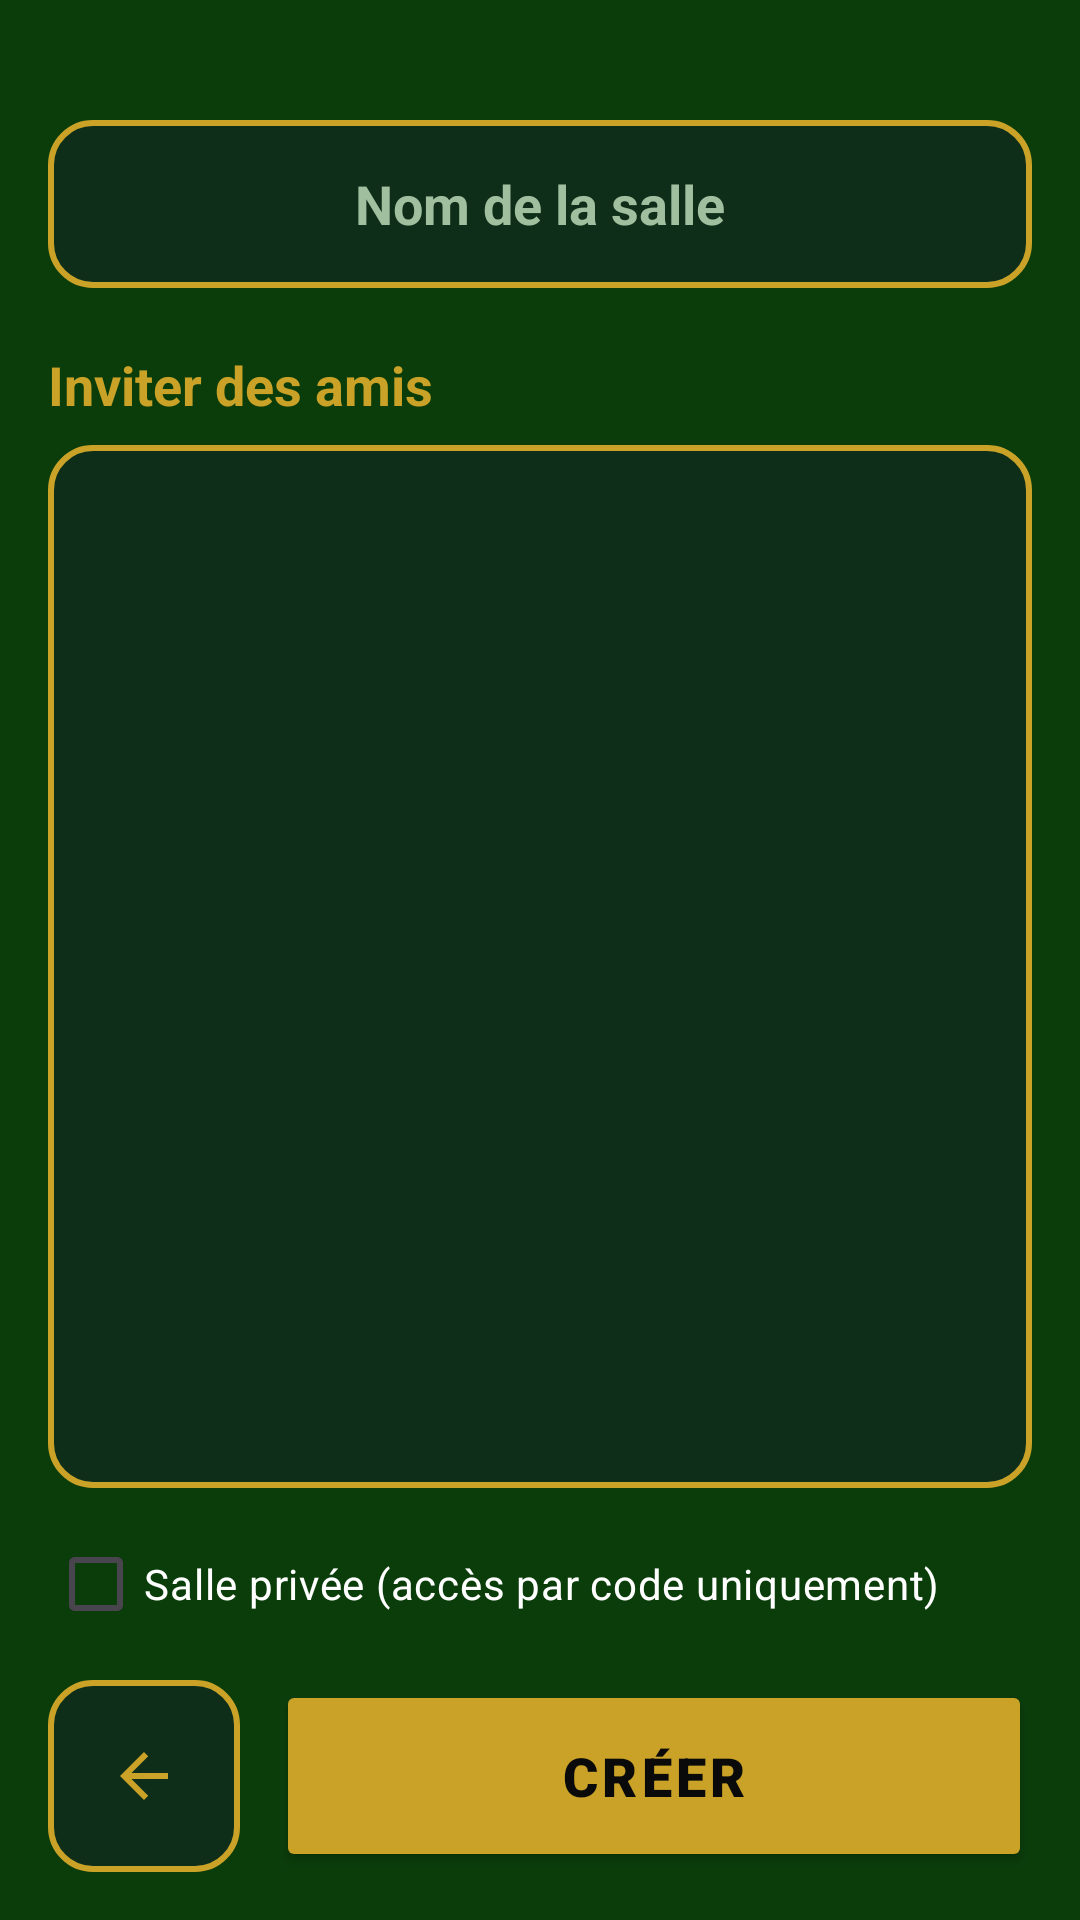

Point at icon controls on the screen. Image size 1080 × 1920, points as point (x, y).
Retour: point (144, 1776)
